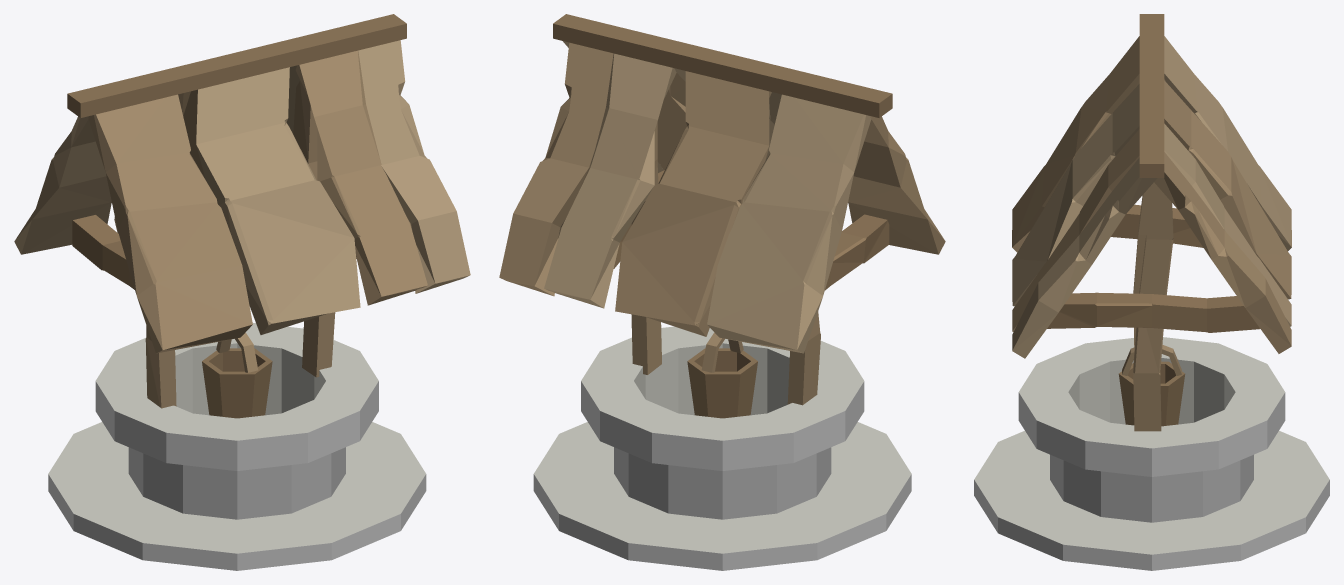
File: Model_Forest_2x2B.fbx
The picture shows the model from 3 angles, left to right: view 1: azimuth 30°, elevation 25°; view 2: azimuth 150°, elevation 25°; view 3: azimuth 270°, elevation 25°; orthographic projection. The views are drawn at different scales.
Parts seen in each view (by area): view 1: Model_Frost_2x2B; view 2: Model_Frost_2x2B; view 3: Model_Frost_2x2B.
Part boxes in pixels (x1=…): Model_Frost_2x2B: x1=14, y1=14, x2=470, y2=570; Model_Frost_2x2B: x1=499, y1=14, x2=945, y2=570; Model_Frost_2x2B: x1=974, y1=14, x2=1329, y2=570.
Bounding box in the file's own units: 308 × 392 × 308.
1 material, 1 textured.
